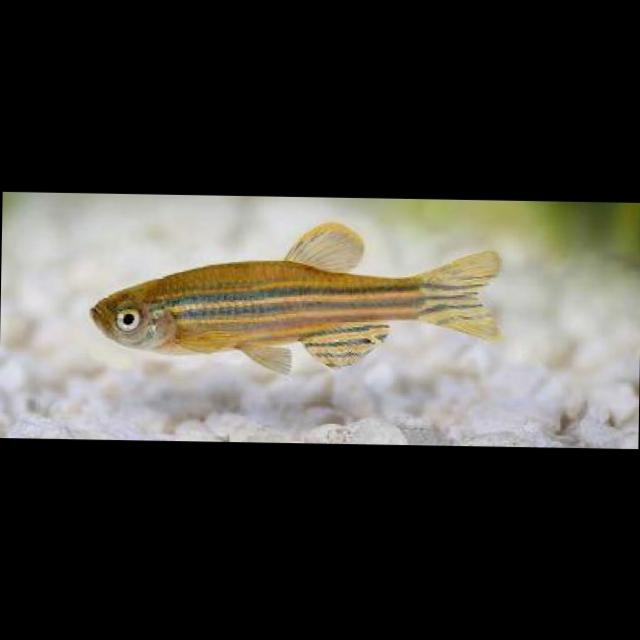ZebraFish: (90, 222, 500, 362)
